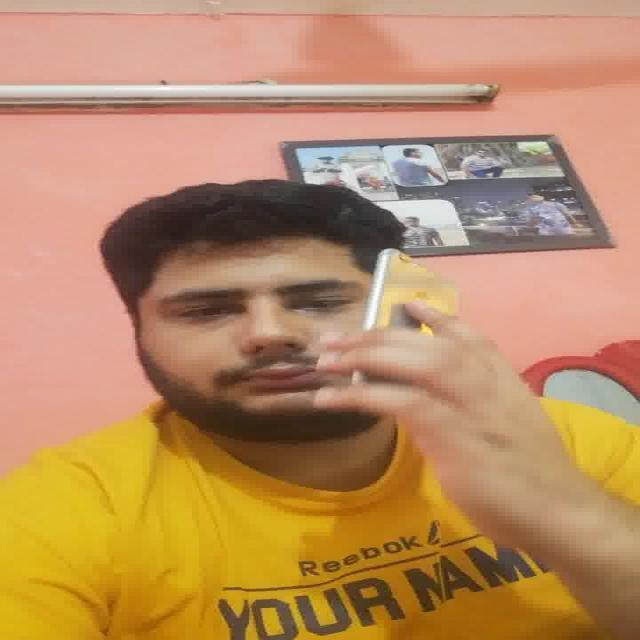Phone: (364, 246, 468, 334)
